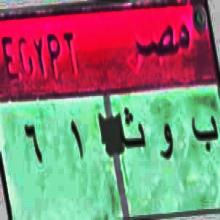1: (67, 117, 91, 169)
6: (22, 112, 48, 177)
baa: (191, 102, 218, 169)
thaa: (118, 104, 146, 161)
waw: (155, 116, 177, 167)
